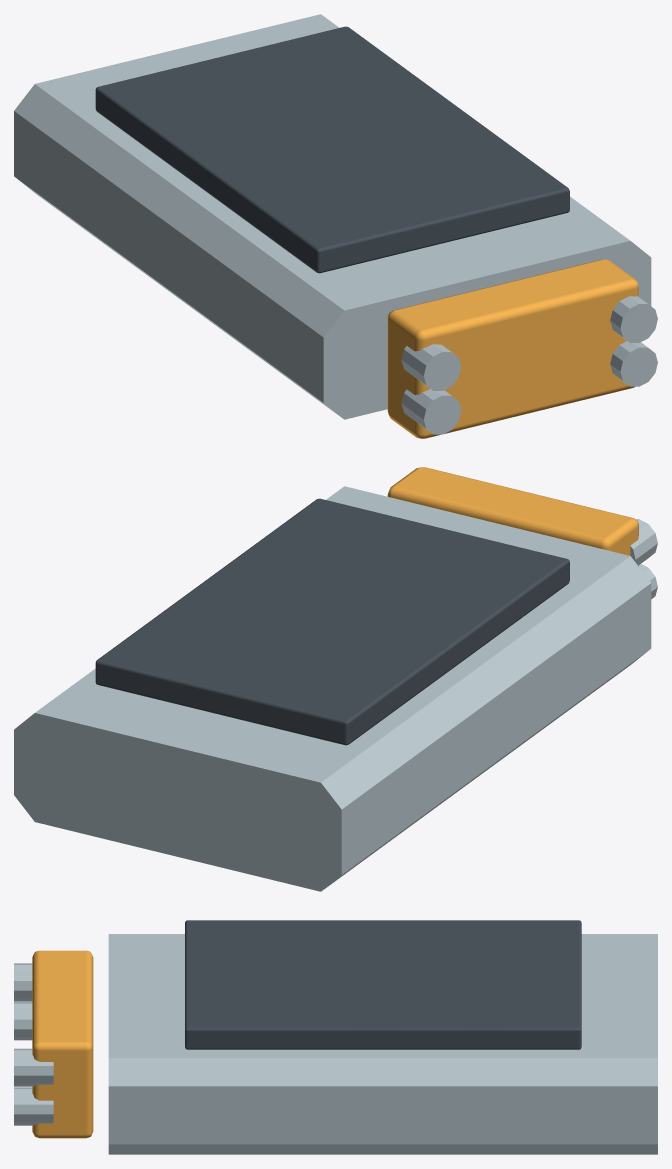
Rendered from data-centre-infiltration-kit-data-centre-infiltration--dcaaa253__29243.glb.
3 views of the same model, one above another, from view 1: azimuth 30°, elevation 25°; view 2: azimuth 150°, elevation 25°; view 3: azimuth 270°, elevation 25° (orthographic). The views are drawn at different scales.
Parts seen in each view (by area): view 1: data-centre-infiltration-kit-drive-caddy; view 2: data-centre-infiltration-kit-drive-caddy; view 3: data-centre-infiltration-kit-drive-caddy.
Part boxes in pixels (box(x1,y1,x2,y2)): data-centre-infiltration-kit-drive-caddy: box(14, 14, 657, 438); data-centre-infiltration-kit-drive-caddy: box(14, 467, 657, 891); data-centre-infiltration-kit-drive-caddy: box(14, 920, 657, 1154).
Bounding box in the file's own units: 0.11 × 0.043 × 0.211.
